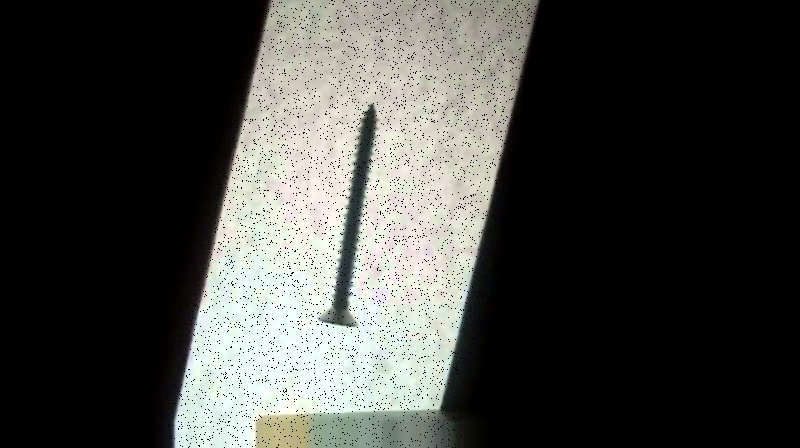S002: (314, 102, 379, 330)
